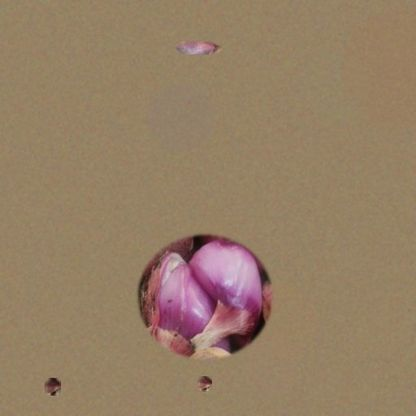damaged: (133, 231, 276, 363)
rotten: (174, 41, 222, 54)
sprouted: (45, 378, 61, 396), (197, 376, 212, 392)
